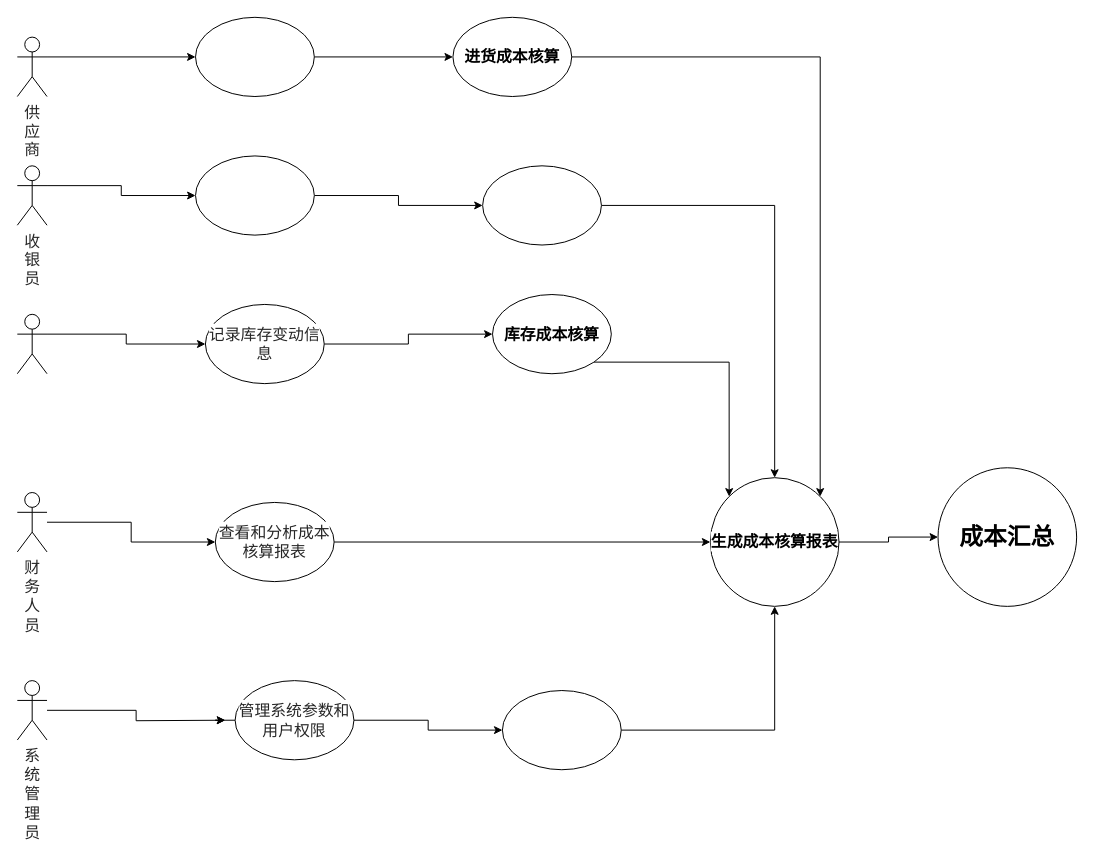
The diagram is 1094 pixels wide and 859 high, and some of its shapes have lost their labels. The shapes that lost their labels are listed below. From the top down, each one's centre as x and y in pixels, then its label:
At [254,56]: "提供商品进货信息".
At [254,195]: "输入销售交易信息".
At [541,205]: "销售成本核算".
At [31,343]: "仓库管理员".
At [561,730]: "系统参数设置".
